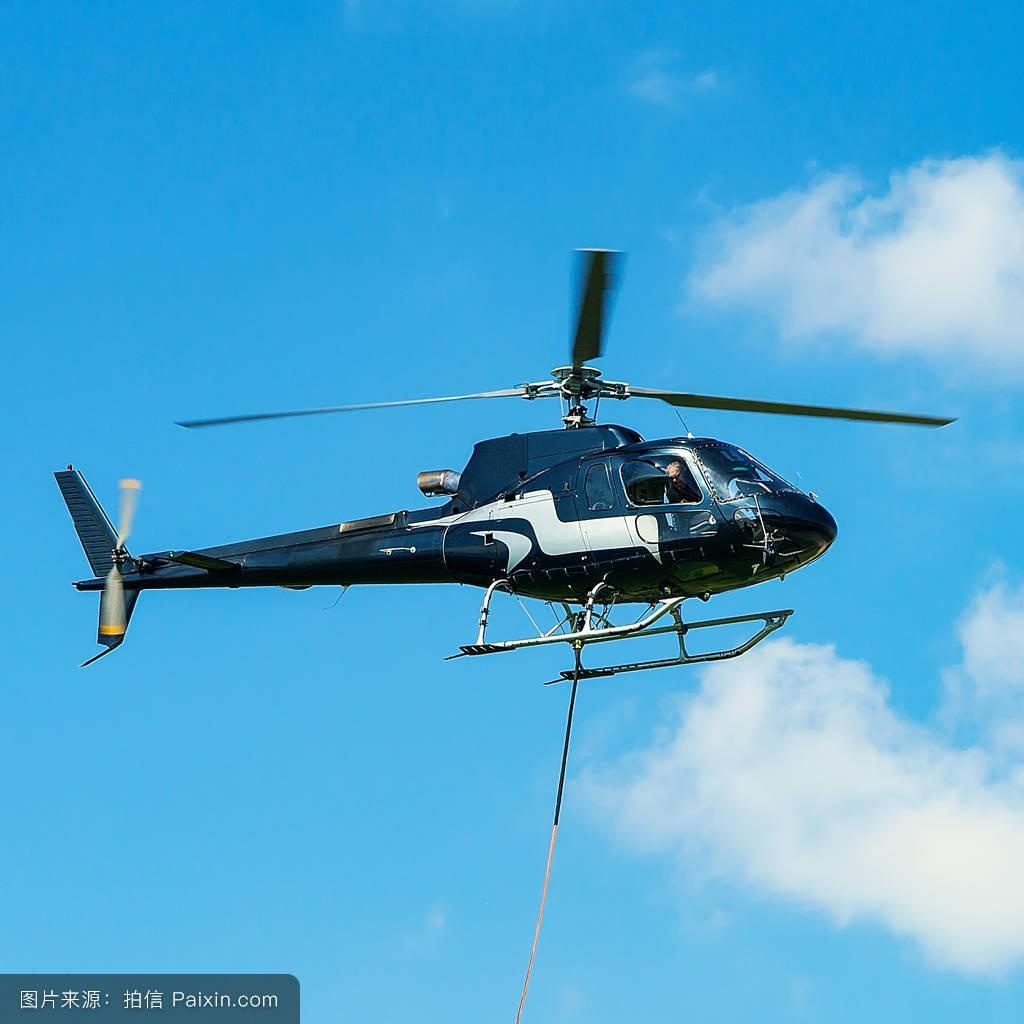airplane: (55, 239, 960, 679)
